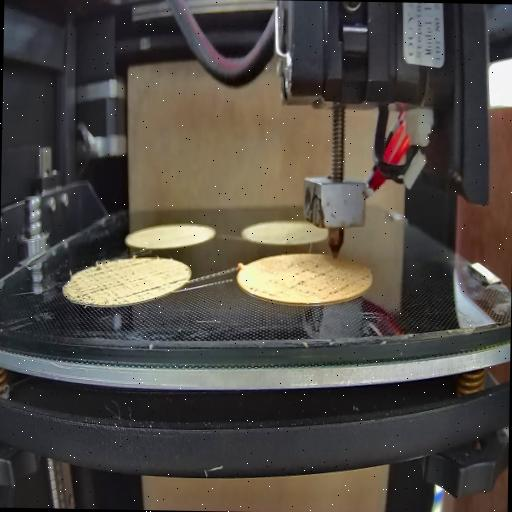under_extrusion: (68, 260, 162, 303), (286, 254, 370, 300), (246, 277, 280, 302), (168, 272, 190, 290)
